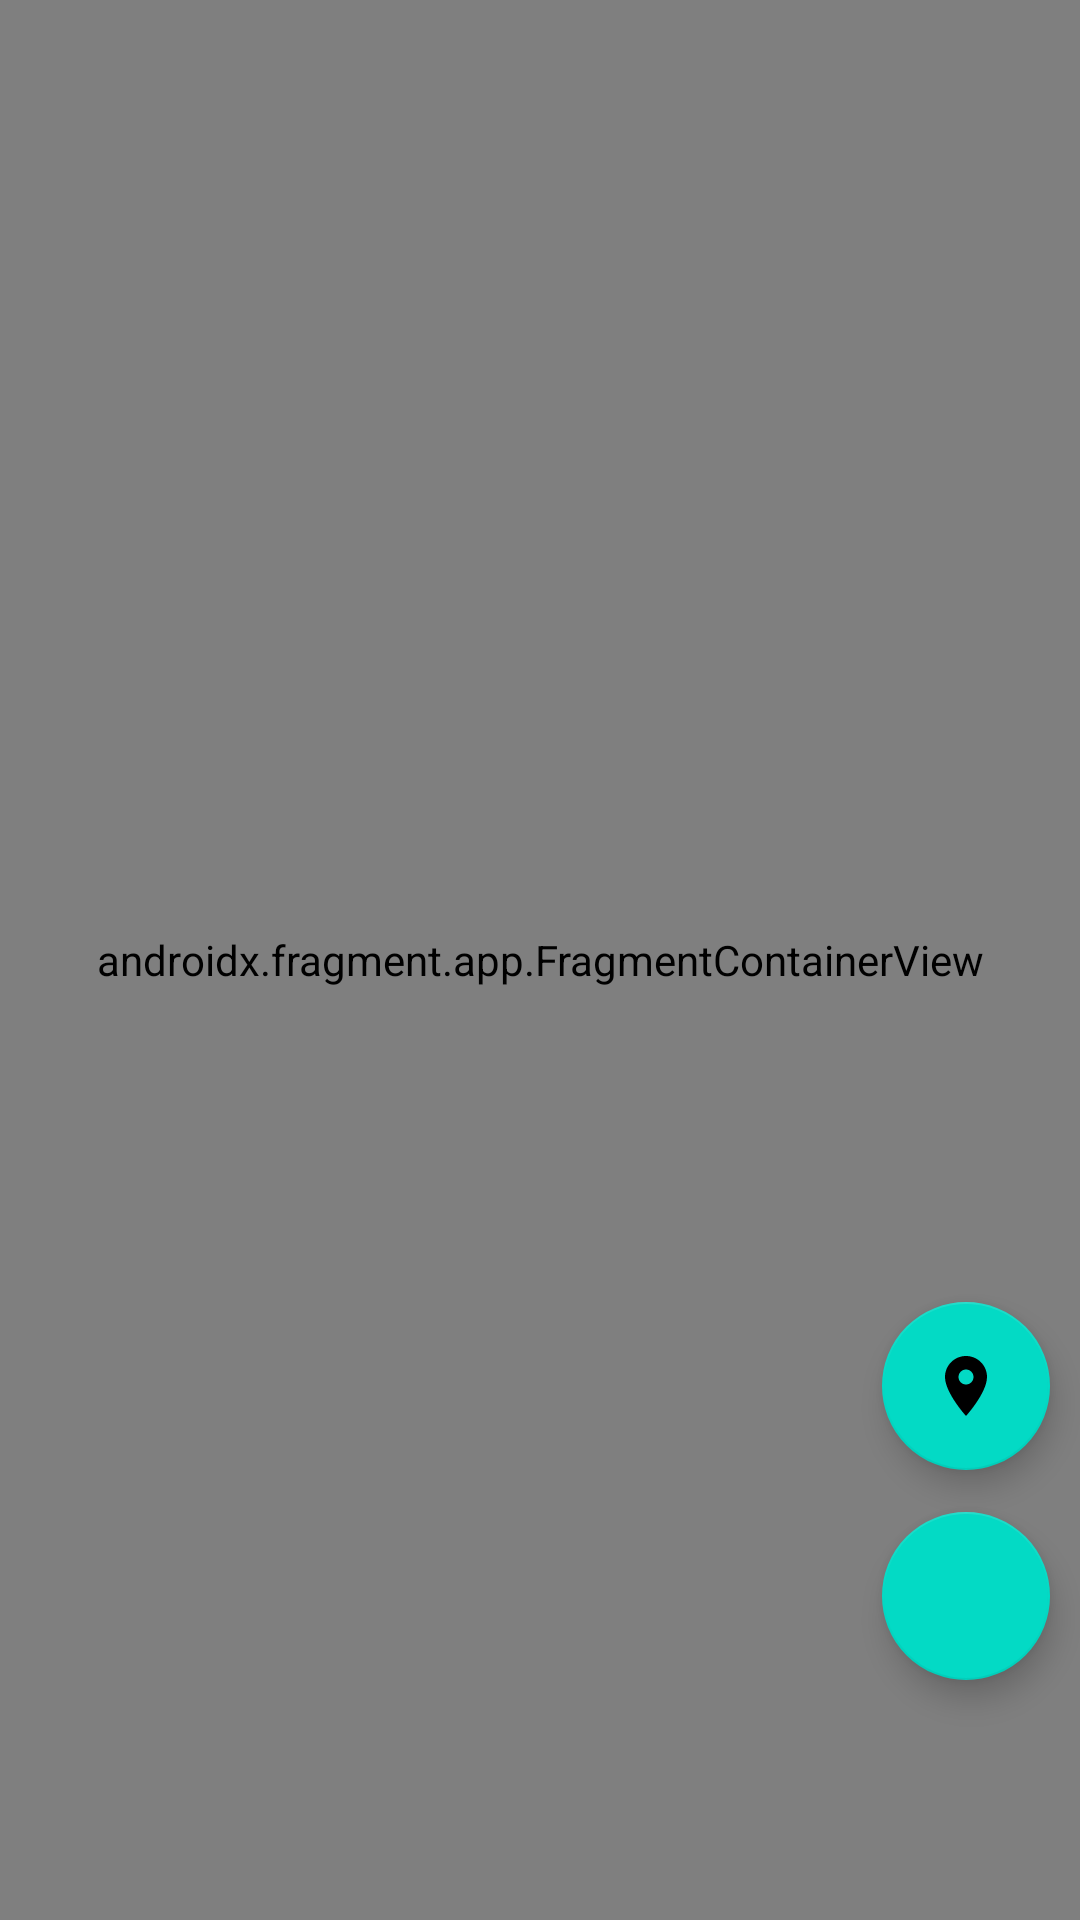

Where icons sit on this 1080×1920 app screen, as (x1=x1, y1=y1, x2=x2, y2=y2):
location on: (x1=882, y1=1302, x2=1050, y2=1470)
